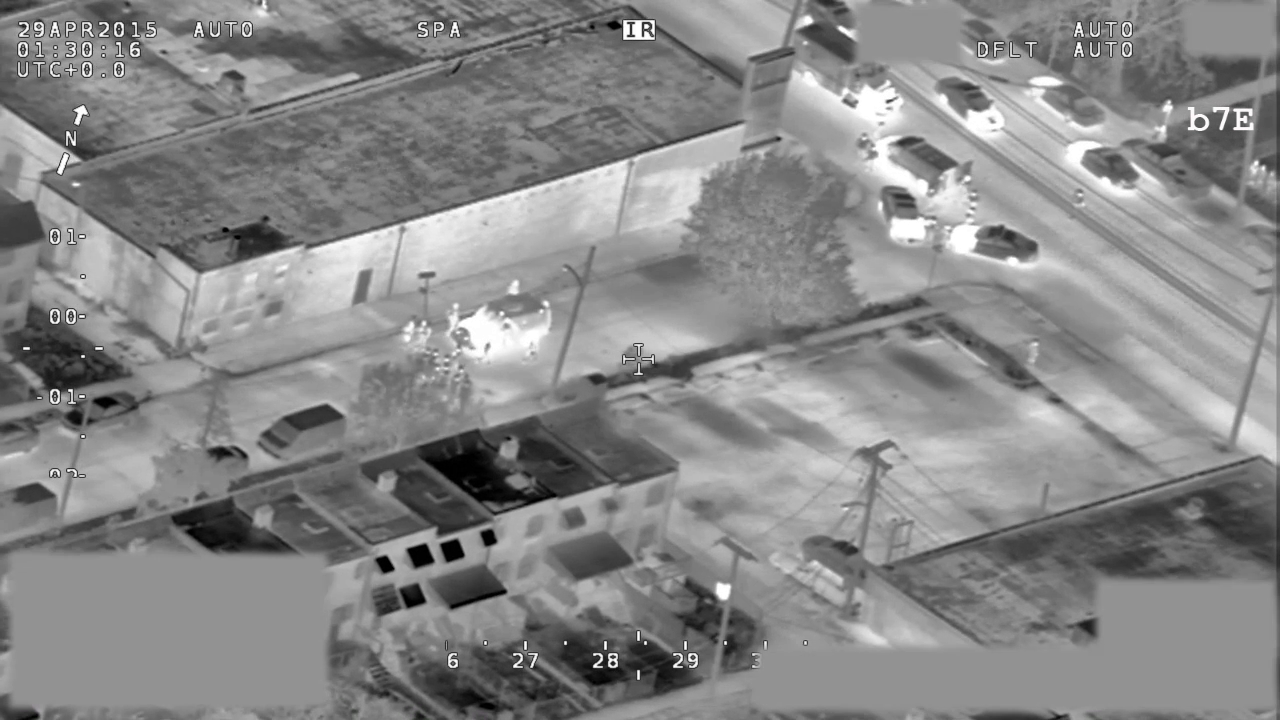vehicle: (783, 17, 908, 126), (867, 130, 978, 202), (449, 290, 554, 360), (1121, 132, 1217, 205), (258, 402, 352, 460), (946, 215, 1043, 271), (1023, 69, 1110, 130), (932, 69, 1010, 137), (1061, 137, 1144, 195), (163, 441, 254, 486), (64, 391, 143, 441), (877, 178, 932, 247), (1, 475, 64, 532), (959, 17, 1017, 60), (803, 1, 859, 35), (1, 417, 48, 454)
